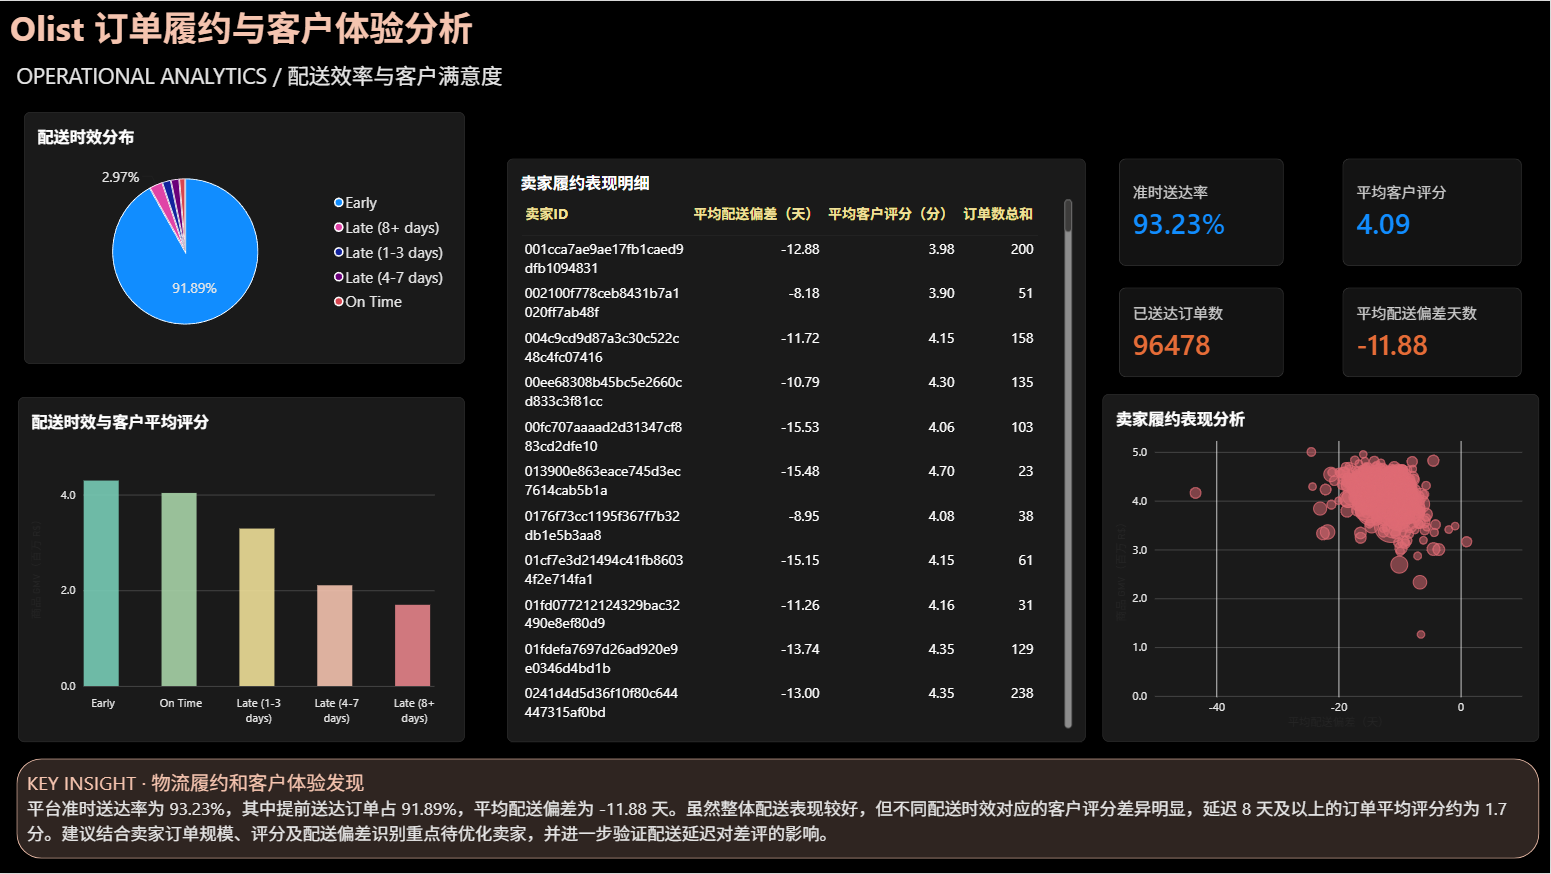

Layout of this report page (visuals, bound fields, positions):
{"tool":"powerbi","page":{"name":"04 | 订单履约与客户体验分析","canvas":[1920,1080],"ordinal":3},"visuals":[{"type":"columnChart","title":"配送时效与客户平均评分","fields":{"Category":["bi_dim_orders.delivery_status"],"Y":["bi_dim_orders.配送订单平均评分"]},"box":[22.3,490.4,553.5,427.2],"z":0},{"type":"textbox","box":[0,0,598.1,72.4],"z":1000},{"type":"textbox","box":[20.4,72.4,668.7,52],"z":2000},{"type":"shape","box":[21,937.6,1885.7,124],"z":3000},{"type":"textbox","box":[33.2,949.8,1852.5,131],"z":4000},{"type":"pieChart","title":"配送时效分布","fields":{"Category":["bi_dim_orders.delivery_status"],"Y":["bi_dim_orders.可评估配送订单数"]},"box":[29.7,137.5,546.1,312.1],"z":5000},{"type":"cardVisual","title":"购买用户总数","fields":{"Data":["bi_dim_orders.已送达订单数"]},"box":[1385.7,354.8,204.3,111.4],"z":6000},{"type":"cardVisual","title":"复购率","fields":{"Data":["bi_dim_orders.准时送达率"]},"box":[1385.7,195,204.3,133.7],"z":7000},{"type":"cardVisual","title":"购买用户总数","fields":{"Data":["bi_dim_orders.平均配送偏差天数"]},"box":[1662.4,354.8,222.9,111.4],"z":8000},{"type":"cardVisual","title":"复购率","fields":{"Data":["bi_fact_reviews.平均客户评分"]},"box":[1662.4,195,222.9,133.7],"z":9000},{"type":"scatterChart","title":"卖家履约表现分析","fields":{"Category":["bi_dim_sellers_performance.seller_id"],"Size":["Sum(bi_dim_sellers_performance.order_count)"],"X":["Avg(bi_dim_sellers_performance.avg_delivery_delay_days)"],"Y":["Avg(bi_dim_sellers_performance.avg_review_score)"]},"box":[1365.3,486.7,540.5,430.9],"z":10000},{"type":"tableEx","title":"卖家履约表现明细","fields":{"Values":["bi_dim_sellers_performance.seller_id","Avg(bi_dim_sellers_performance.avg_delivery_delay_days)","Avg(bi_dim_sellers_performance.avg_review_score)","Sum(bi_dim_sellers_performance.order_count)"]},"box":[627.8,195,717,722.6],"z":11000}]}

Visuals, with their boxes in screenshot pixels (x1, y1, x2, y2), scaled from the page's 1920x1080 canvas onto the 1551x874 screenshot:
"配送时效与客户平均评分" columnChart: {"left": 18, "top": 397, "right": 465, "bottom": 743}
textbox: {"left": 0, "top": 0, "right": 483, "bottom": 59}
textbox: {"left": 16, "top": 59, "right": 557, "bottom": 101}
shape: {"left": 17, "top": 759, "right": 1540, "bottom": 859}
textbox: {"left": 27, "top": 769, "right": 1523, "bottom": 873}
"配送时效分布" pieChart: {"left": 24, "top": 111, "right": 465, "bottom": 364}
"购买用户总数" cardVisual: {"left": 1119, "top": 287, "right": 1284, "bottom": 377}
"复购率" cardVisual: {"left": 1119, "top": 158, "right": 1284, "bottom": 266}
"购买用户总数" cardVisual: {"left": 1343, "top": 287, "right": 1523, "bottom": 377}
"复购率" cardVisual: {"left": 1343, "top": 158, "right": 1523, "bottom": 266}
"卖家履约表现分析" scatterChart: {"left": 1103, "top": 394, "right": 1540, "bottom": 743}
"卖家履约表现明细" tableEx: {"left": 507, "top": 158, "right": 1086, "bottom": 743}
